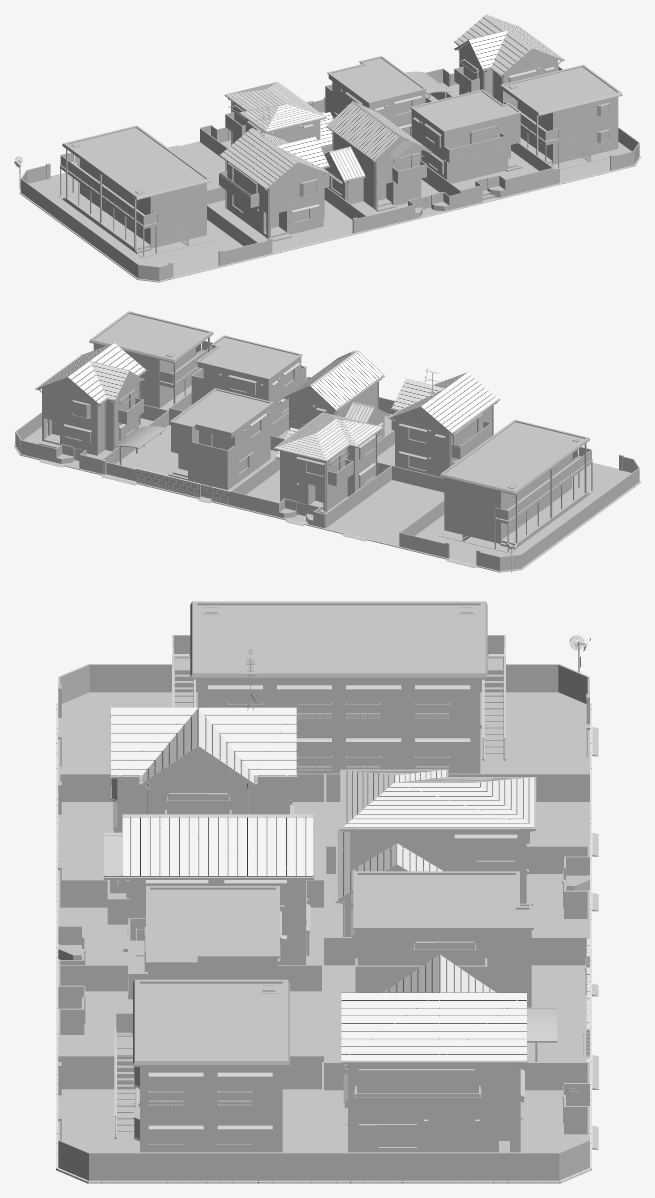
File: Street_G.fbx
3 views of the same model, one above another, from view 1: azimuth 30°, elevation 25°; view 2: azimuth 150°, elevation 25°; view 3: azimuth 270°, elevation 25° (orthographic). The views are drawn at different scales.
Visible parts, largest first — view 1: Street_G; view 2: Street_G; view 3: Street_G.
Boxes of the visible parts, x1,y1,x2,y2 form: Street_G: (14,14,640,282); Street_G: (14,311,640,572); Street_G: (56,601,598,1183).
Bounding box in the file's own units: 5380 × 1042 × 2512.
